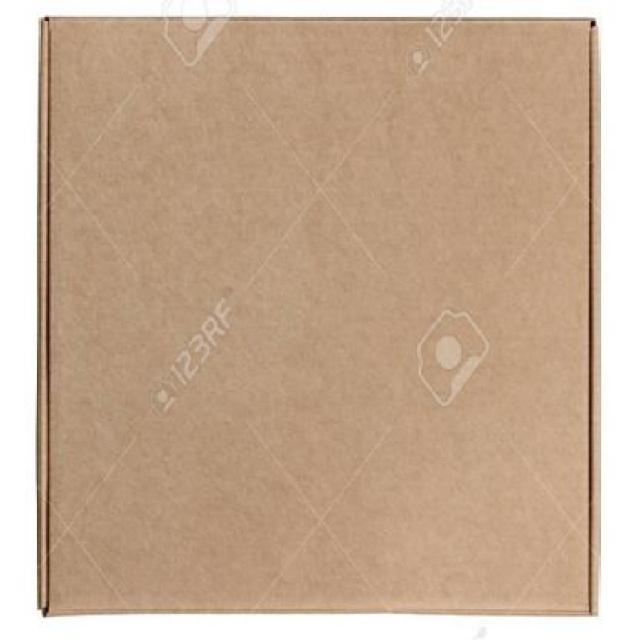obstacle: (39, 19, 599, 608)
